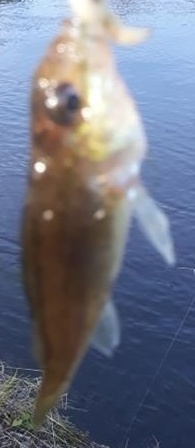Gymnocephalus cernuus: (20, 20, 175, 428)
